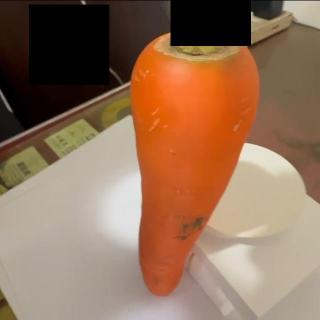carrot: (127, 0, 260, 296)
